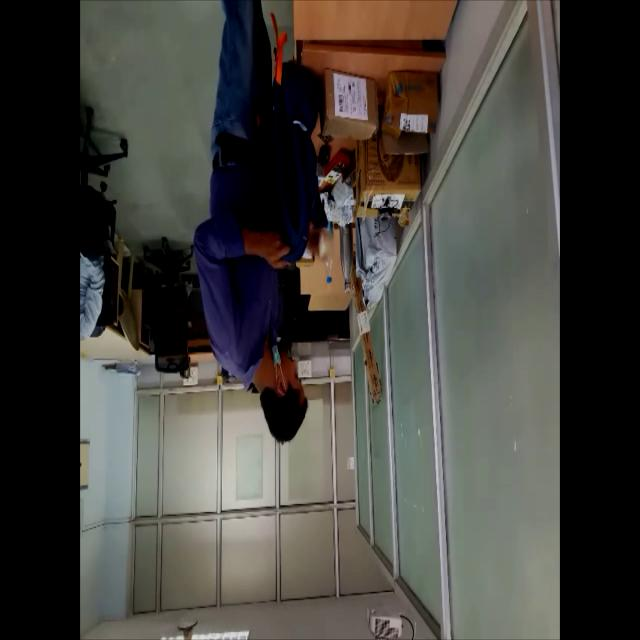shoplifting: (193, 0, 336, 465)
